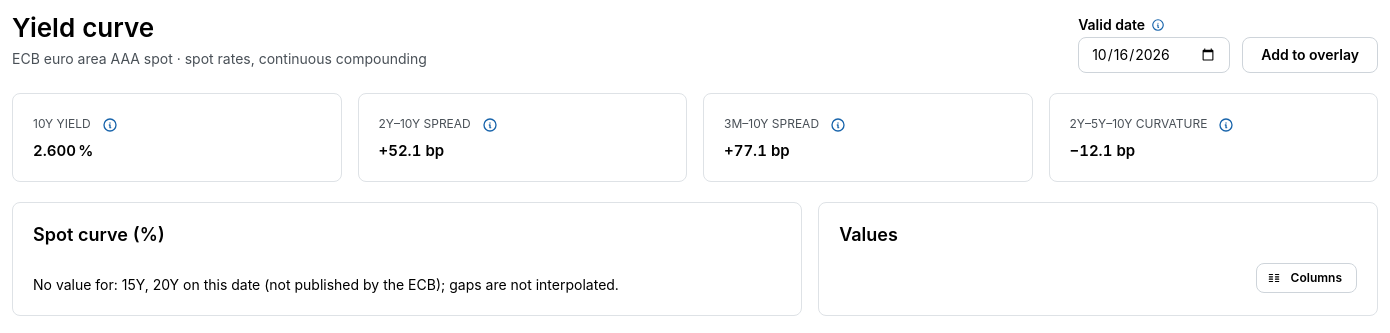
Test case: CurveView › explains the valid date with the publisher
Check: the date field labelled "Valid date" holds "2026-10-16", box [1078, 37, 1230, 73]
Hover over the button named "About valid date" at (1158, 25), box [1151, 18, 1165, 32]
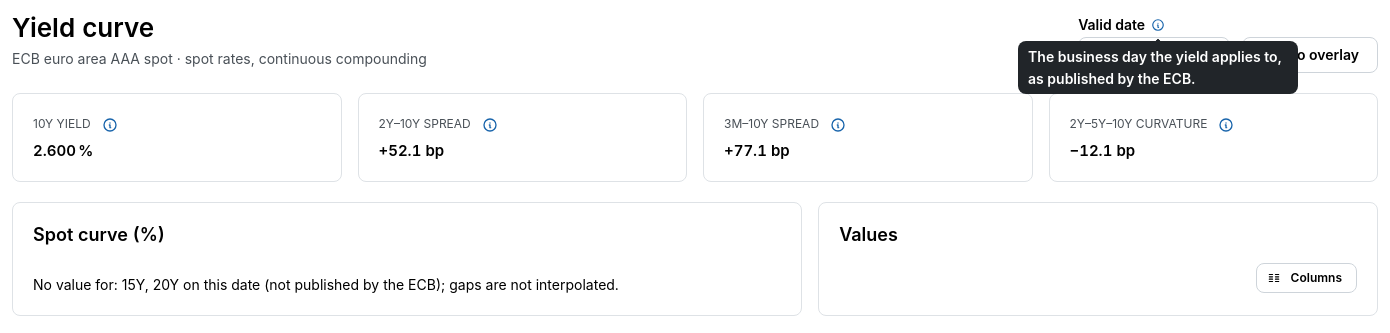
Check: the tooltip "The business day the yield applies to, as published by the ECB." is shown, box [1018, 41, 1298, 94]
